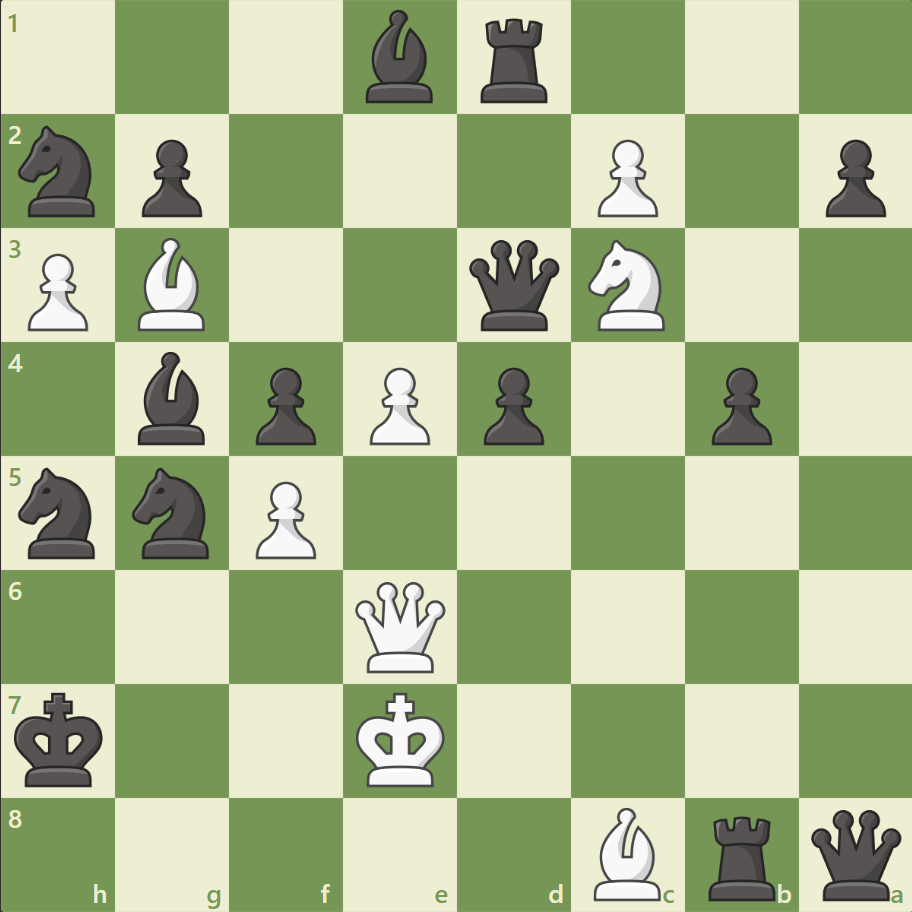B: (585, 801, 669, 904), (131, 233, 215, 336)
K: (351, 685, 451, 793)
N: (579, 234, 676, 337)
P: (247, 473, 322, 564), (20, 246, 95, 337), (361, 359, 435, 450), (588, 132, 662, 223)
Q: (351, 576, 450, 676)
b: (358, 6, 442, 109), (131, 347, 215, 449)
k: (11, 685, 111, 793)
n: (124, 461, 222, 564), (11, 461, 108, 564), (11, 121, 108, 223)
p: (701, 359, 776, 450), (474, 359, 549, 450), (247, 359, 322, 450), (133, 132, 208, 223), (815, 132, 889, 223)
q: (805, 804, 904, 903), (464, 236, 563, 335)
r: (700, 806, 783, 904), (473, 12, 556, 109)
